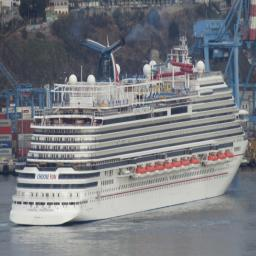cruises: (8, 36, 250, 232)
